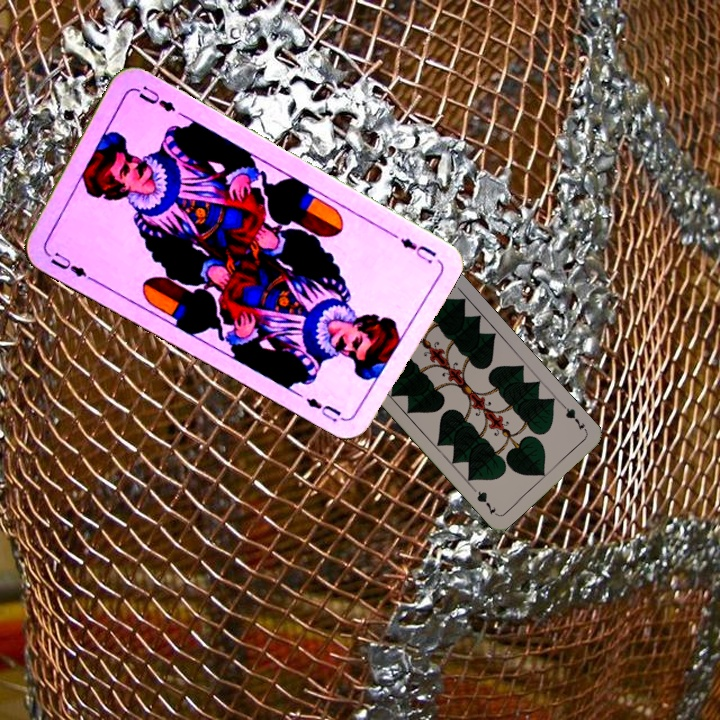EU: (42, 247, 96, 283), (396, 234, 440, 267)
G7: (559, 401, 590, 435)
